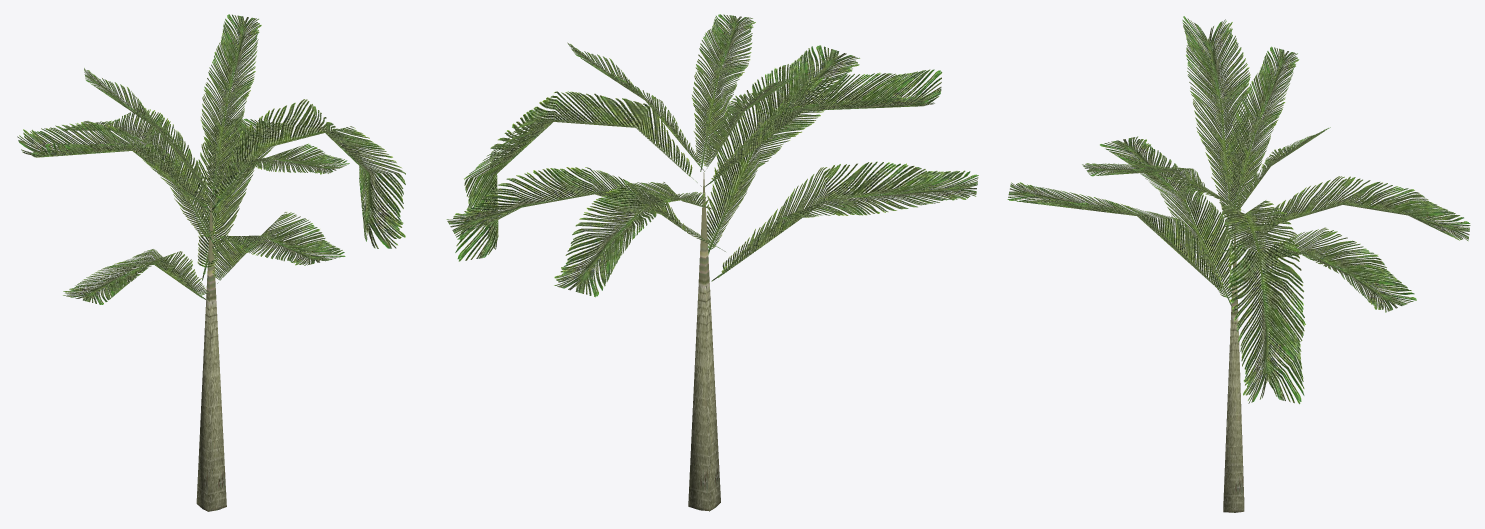
File: palm_queen.glb
3 renders of one model, left to right at view 1: azimuth 30°, elevation 25°; view 2: azimuth 150°, elevation 25°; view 3: azimuth 270°, elevation 25°, orthographic. The views are drawn at different scales.
Parts seen in each view (by area): view 1: palm_queen; view 2: palm_queen; view 3: palm_queen.
Part boxes in pixels (x1,y1,x2,y2): palm_queen: [17, 14, 405, 511]; palm_queen: [446, 14, 978, 511]; palm_queen: [1007, 16, 1470, 512].
Bounding box in the file's own units: 5.81 × 6.01 × 6.08.
Materials: 2 (2 with a texture image).
